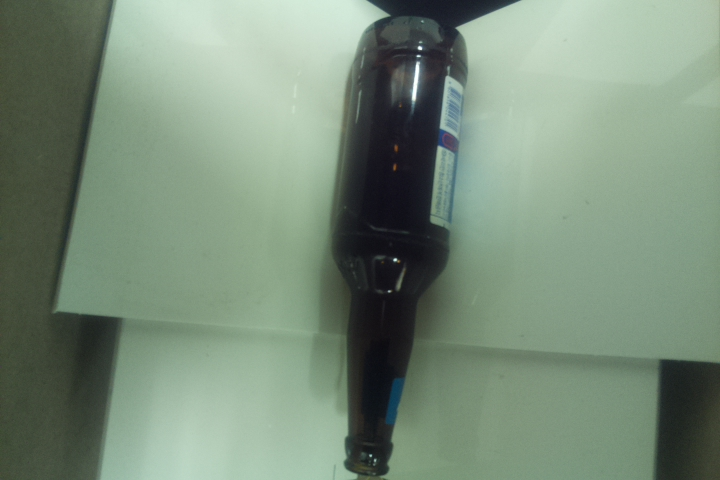makju: (324, 13, 470, 477)
